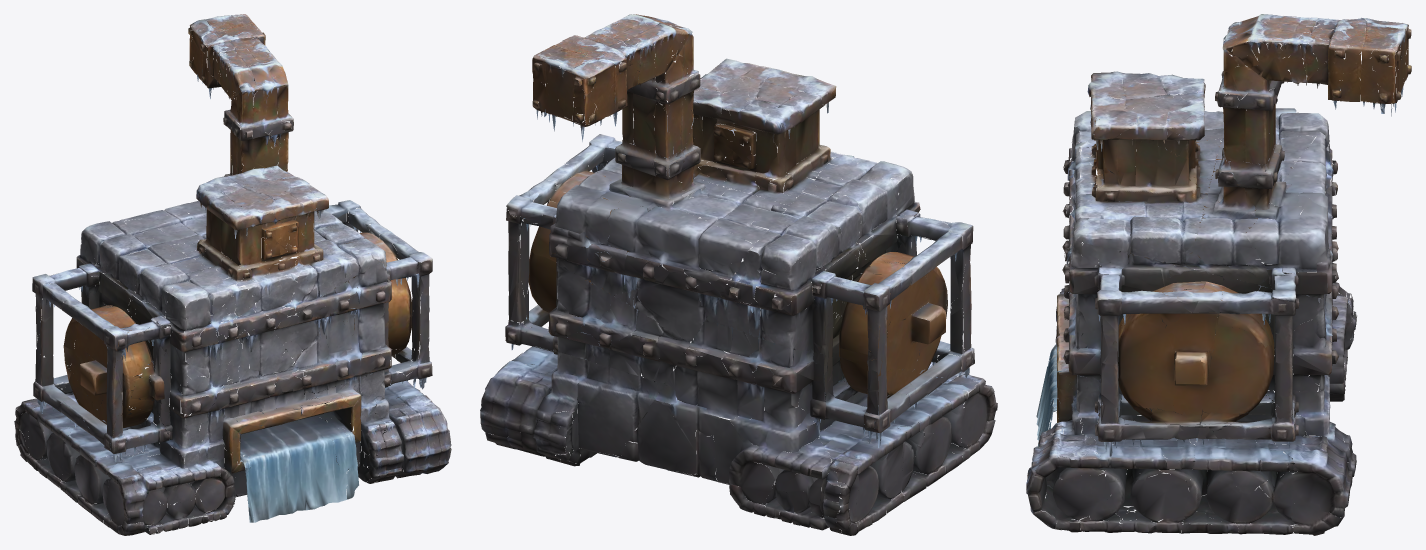
File: turbineheart.glb
The picture shows the model from 3 angles, left to right: view 1: azimuth 30°, elevation 25°; view 2: azimuth 150°, elevation 25°; view 3: azimuth 270°, elevation 25°; orthographic projection. The views are drawn at different scales.
Visible parts, largest first — view 1: tripo_node_acf26a45-e967-4d8b-9527-182dc86f933a; view 2: tripo_node_acf26a45-e967-4d8b-9527-182dc86f933a; view 3: tripo_node_acf26a45-e967-4d8b-9527-182dc86f933a.
Boxes of the visible parts, box(x1,y1,x2,y2) form: tripo_node_acf26a45-e967-4d8b-9527-182dc86f933a: box(14, 14, 451, 535); tripo_node_acf26a45-e967-4d8b-9527-182dc86f933a: box(480, 14, 997, 535); tripo_node_acf26a45-e967-4d8b-9527-182dc86f933a: box(1026, 14, 1411, 535).
Bounding box in the file's own units: 0.8961 × 0.9809 × 0.7589.
1 material, 1 textured.
